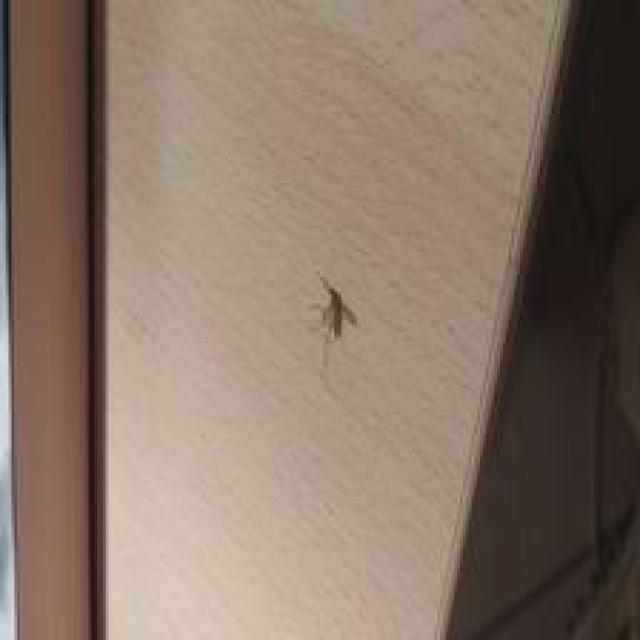Culex: (316, 274, 358, 343)
